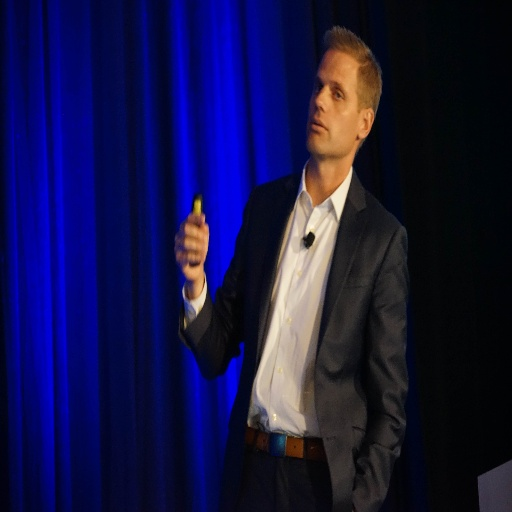hand: (174, 206, 214, 286)
